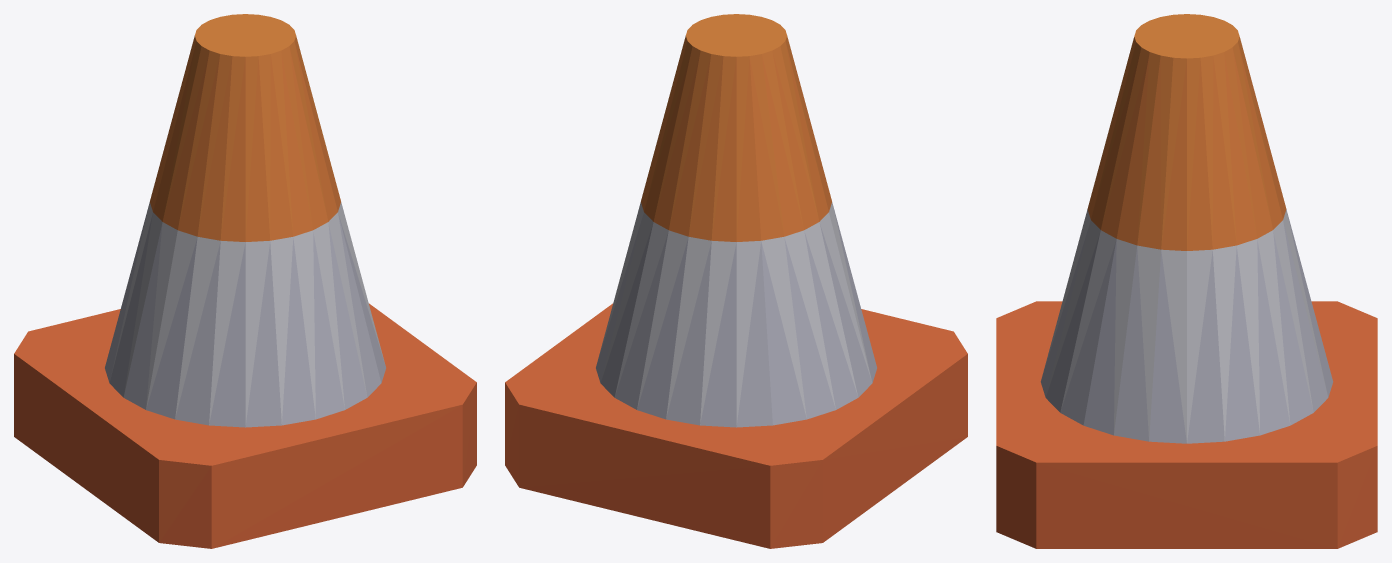
3 views of the same model, side by side, from view 1: azimuth 30°, elevation 25°; view 2: azimuth 150°, elevation 25°; view 3: azimuth 270°, elevation 25° (orthographic). The views are drawn at different scales.
Parts seen in each view (by area): view 1: cone; view 2: cone; view 3: cone.
Boxes of the visible parts, box(x1,y1,x2,y2) form: cone: box(14, 14, 476, 548); cone: box(505, 14, 967, 548); cone: box(996, 14, 1377, 548).
Size of the model in its own units: 0.4762 by 0.5952 by 0.4762.
